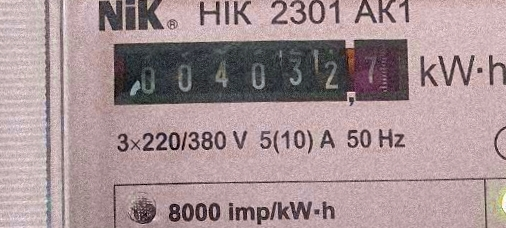0: (246, 57, 267, 91), (173, 60, 194, 93), (137, 61, 157, 95)
2: (320, 56, 340, 90)
3: (284, 54, 303, 87)
4: (209, 56, 231, 92)
7: (361, 52, 379, 85)
screen: (101, 24, 417, 122)
